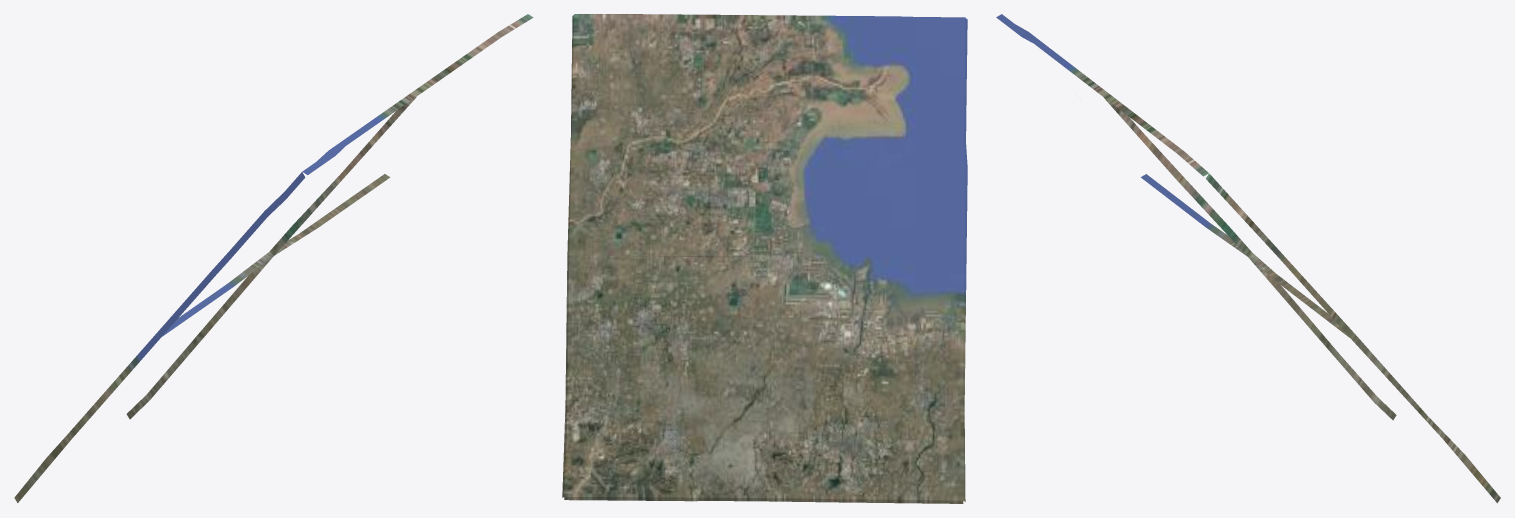
3 renders of one model, left to right at view 1: azimuth 30°, elevation 25°; view 2: azimuth 150°, elevation 25°; view 3: azimuth 270°, elevation 25°, orthographic. The views are drawn at different scales.
Bounding box in the file's own units: 157069 × 126900 × 145861.
Materials: 1 (1 with a texture image).
